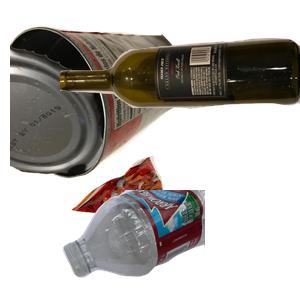glass: (60, 36, 300, 147)
metal: (10, 23, 193, 194)
plastic: (60, 190, 300, 280)
trash: (69, 153, 239, 300)
